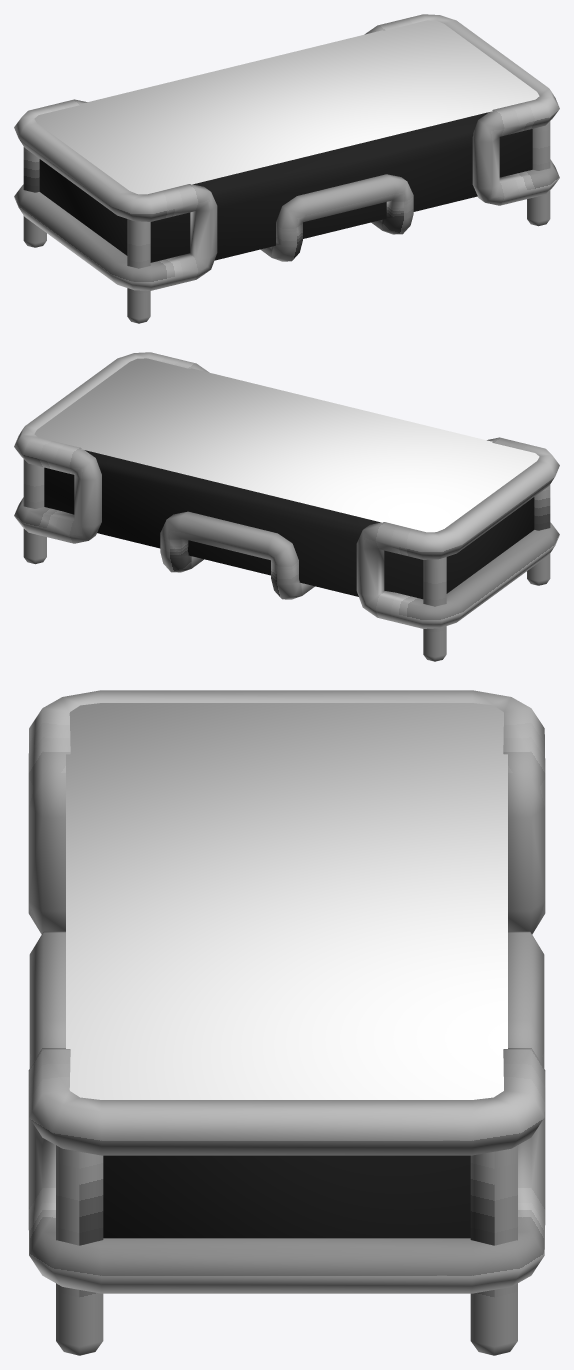
File: rmk_pip_tableM.dae
3 renders of one model, top to bottom at view 1: azimuth 30°, elevation 25°; view 2: azimuth 150°, elevation 25°; view 3: azimuth 270°, elevation 25°, orthographic. The views are drawn at different scales.
Visible parts, largest first — view 1: rmk_pip_tableM; view 2: rmk_pip_tableM; view 3: rmk_pip_tableM.
Boxes of the visible parts, x1,y1,x2,y2 form: rmk_pip_tableM: (14,14,559,323); rmk_pip_tableM: (14,352,559,661); rmk_pip_tableM: (28,690,545,1355).
Size of the model in its own units: 62.3 by 16.89 by 31.39.
Materials: 3 (2 with a texture image).
